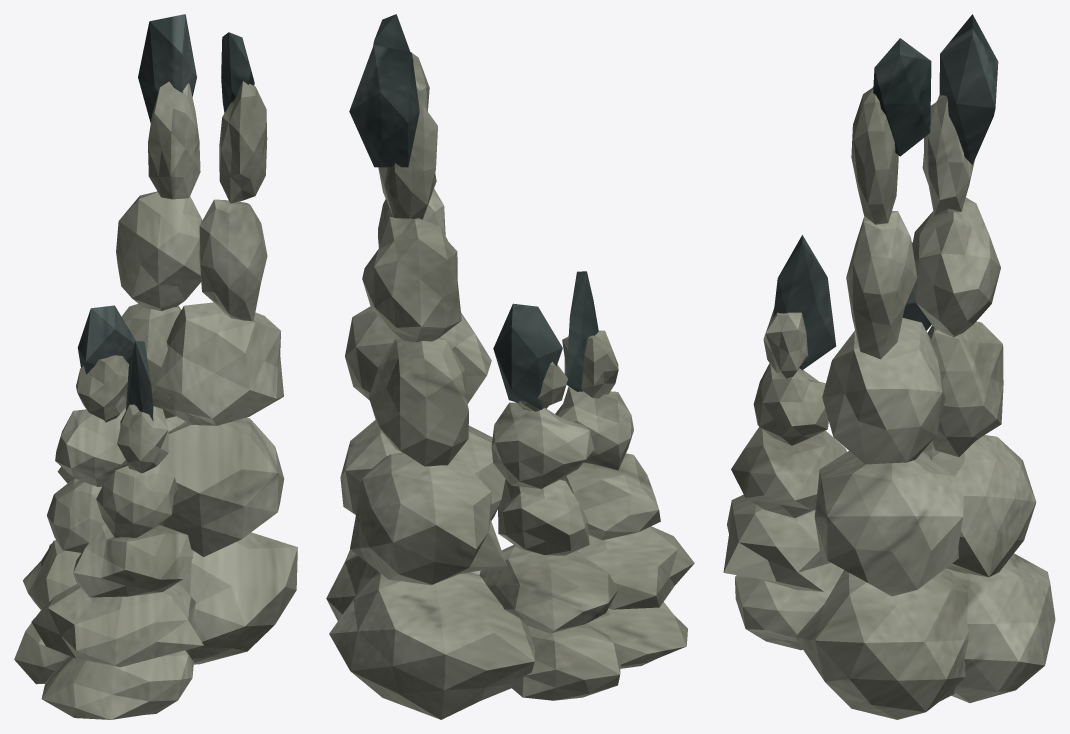
Rendered from 0060_rock_spire_10.glb.
3 renders of one model, left to right at view 1: azimuth 30°, elevation 25°; view 2: azimuth 150°, elevation 25°; view 3: azimuth 270°, elevation 25°, orthographic. The views are drawn at different scales.
Visible parts, largest first — view 1: stone_light, stone_dark; view 2: stone_light, stone_dark; view 3: stone_light, stone_dark.
Boxes of the visible parts, box(x1,y1,x2,y2) form: stone_light: box(14, 81, 297, 719); stone_dark: box(77, 14, 254, 421); stone_light: box(326, 52, 694, 719); stone_dark: box(349, 14, 598, 409); stone_light: box(723, 87, 1055, 719); stone_dark: box(773, 14, 998, 369).
Bounding box in the file's own units: 1.27 × 2.65 × 1.15.
2 materials, 2 textured.
